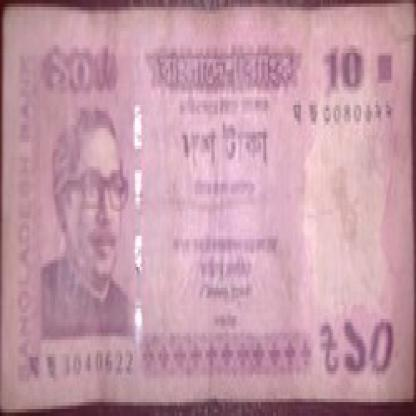Ten Taka: (338, 294, 414, 385), (38, 35, 126, 104), (300, 31, 371, 101)
